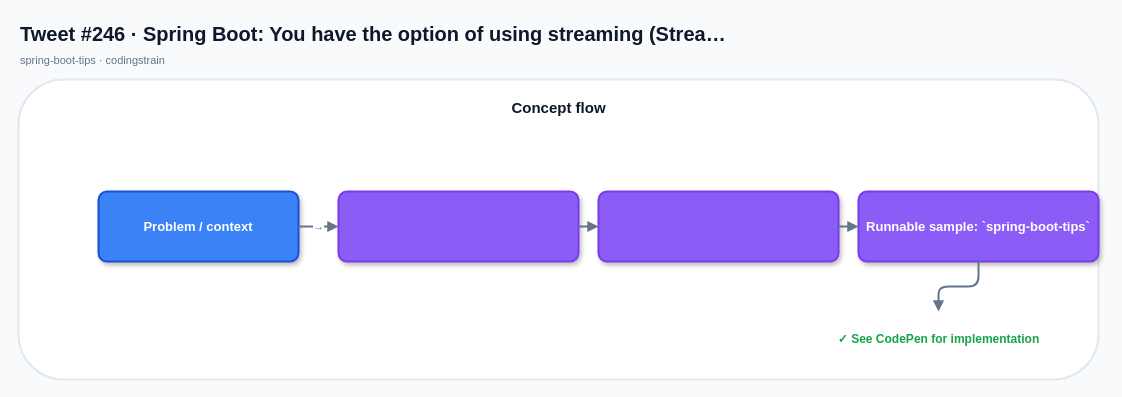
Some shapes in this 1122 by 397 pixel diagram are drawn without their labels. Here are the shapes that lost their labels. From the top down, the centre of each, then its label:
At [459,227]: "Results are fetched in chunks, with only a small subset in memory at a".
At [719,227]: "#SpringBoot #JavaDev".
